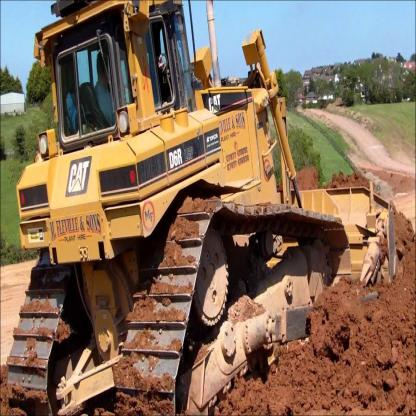bull_dozer/loader/grader: (5, 2, 410, 416)
